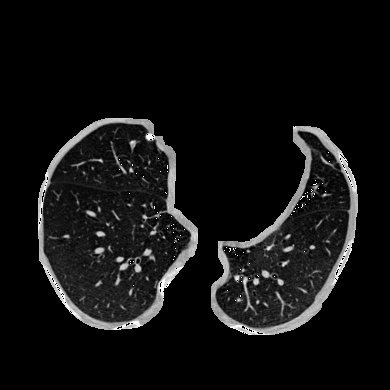PN: (146, 133, 154, 141)
